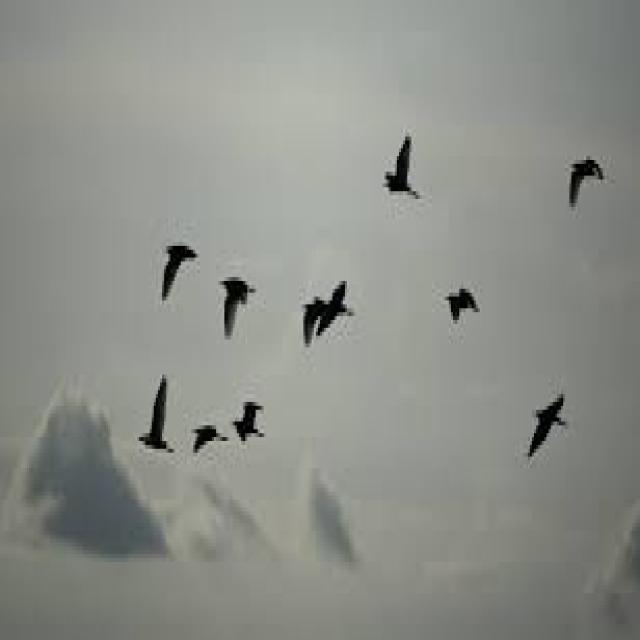bird: (524, 78, 634, 219), (302, 262, 392, 394), (122, 143, 192, 294), (520, 365, 588, 486), (364, 115, 431, 213), (215, 242, 267, 348), (217, 376, 278, 466), (136, 361, 184, 459), (184, 391, 230, 468), (446, 280, 494, 348)
